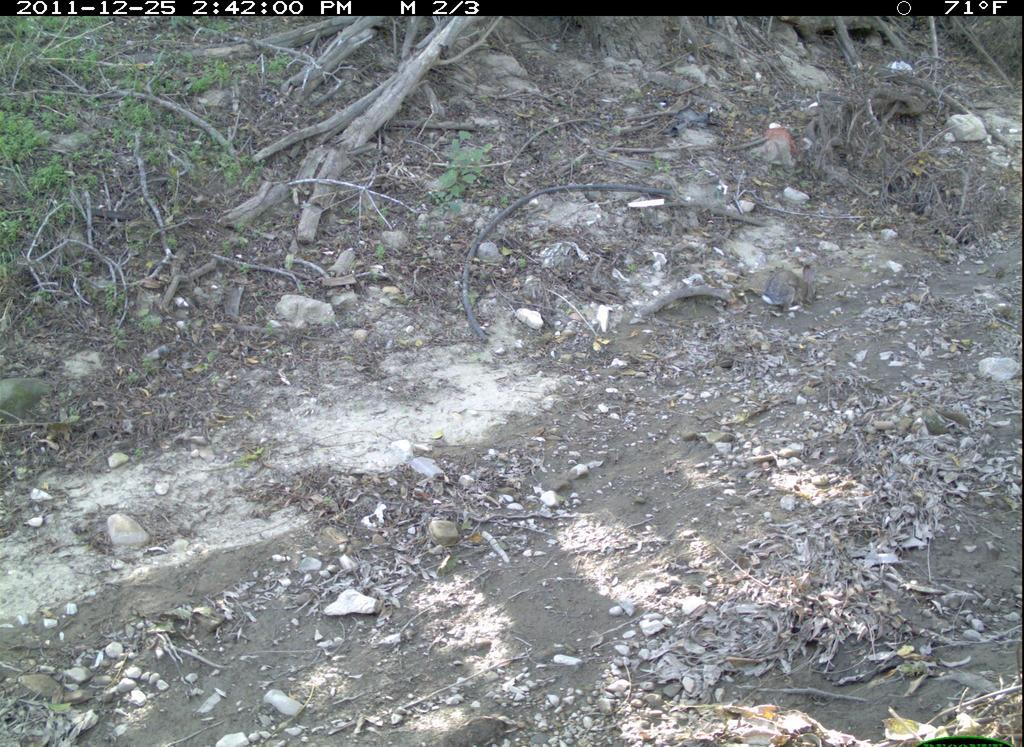rabbit: (761, 263, 825, 314)
